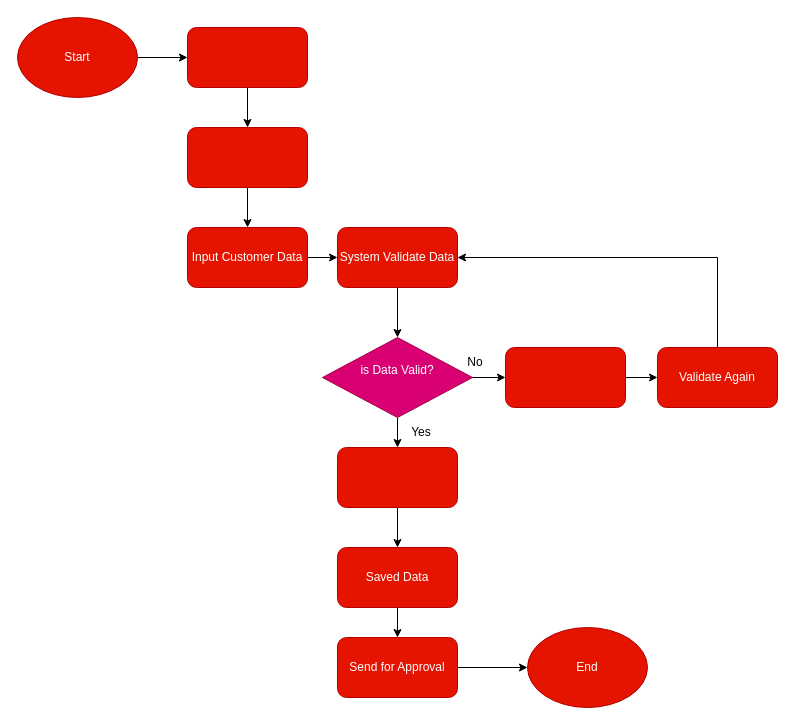
Image size: 795x725. Some labels were removed from this diagram. Each missing label, with the centre of its shape:
Display Validation Error: the point at 565,377
Select Transaction: the point at 247,157
Submit Application: the point at 397,477
User Login: the point at 247,57
